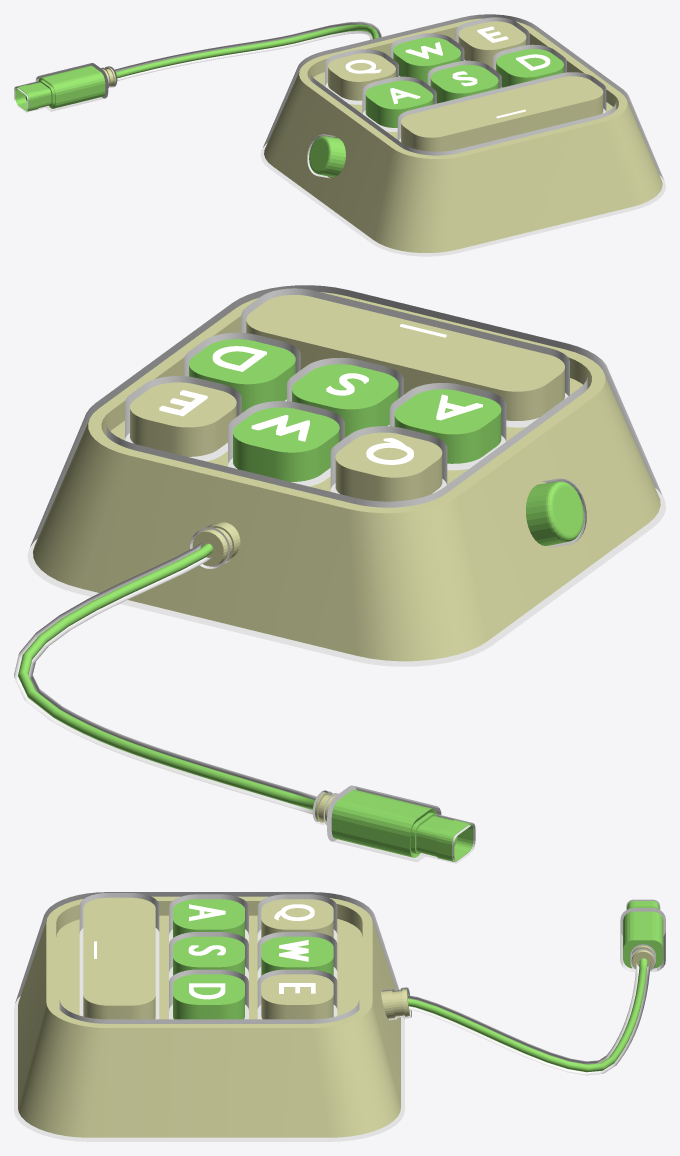
File: mini_cartoon_keyboard.glb
3 views of the same model, one above another, from view 1: azimuth 30°, elevation 25°; view 2: azimuth 150°, elevation 25°; view 3: azimuth 270°, elevation 25° (orthographic). The views are drawn at different scales.
Parts seen in each view (by area): view 1: Cube_0, Cube.012_3, BezierCurve.001_23, Cube.002_9, Cube.005_12, Cube.007_21, Cube.004_11, Cube.003_10, Cube.010_2, Cube.001_8, Cylinder_4, Cube.008_22; view 2: Cube_0, Cube.012_3, BezierCurve.001_23, Cube.004_11, Cube.003_10, Cube.005_12, Cube.002_9, Cube.010_2, Cube.007_21, Cube.001_8, Cylinder_4, Cube.008_22 (+1 smaller); view 3: Cube_0, Cube.012_3, BezierCurve.001_23, Cube.004_11, Cube.001_8, Cube.010_2, Cube.005_12, Cube.002_9, Cube.003_10, Cube.007_21, Cylinder.001_5, Cylinder.002_6 (+2 smaller).
Part boxes in pixels (bbox=[...]): Cube_0: bbox=[260, 14, 665, 256]; Cube.012_3: bbox=[397, 72, 606, 151]; BezierCurve.001_23: bbox=[115, 21, 381, 80]; Cube.002_9: bbox=[362, 76, 436, 132]; Cube.005_12: bbox=[325, 49, 398, 104]; Cube.007_21: bbox=[35, 63, 108, 111]; Cube.004_11: bbox=[455, 17, 529, 68]; Cube.003_10: bbox=[390, 33, 464, 83]; Cube.010_2: bbox=[427, 60, 501, 103]; Cube.001_8: bbox=[493, 44, 566, 87]; Cylinder_4: bbox=[307, 134, 345, 178]; Cube.008_22: bbox=[14, 81, 52, 112]; Cube_0: bbox=[27, 285, 665, 666]; Cube.012_3: bbox=[241, 288, 569, 427]; BezierCurve.001_23: bbox=[14, 541, 316, 814]; Cube.004_11: bbox=[125, 376, 241, 461]; Cube.003_10: bbox=[228, 401, 344, 486]; Cube.005_12: bbox=[330, 426, 447, 501]; Cube.002_9: bbox=[389, 383, 506, 470]; Cube.010_2: bbox=[287, 357, 403, 437]; Cube.007_21: bbox=[327, 785, 441, 861]; Cube.001_8: bbox=[184, 332, 300, 412]; Cylinder_4: bbox=[526, 478, 586, 547]; Cube.008_22: bbox=[415, 813, 475, 863]; Cube_0: bbox=[14, 892, 404, 1141]; Cube.012_3: bbox=[79, 893, 159, 1019]; BezierCurve.001_23: bbox=[407, 958, 650, 1075]; Cube.004_11: bbox=[257, 969, 337, 1019]; Cube.001_8: bbox=[169, 969, 248, 1019]; Cube.010_2: bbox=[169, 932, 248, 981]; Cube.005_12: bbox=[257, 894, 337, 942]; Cube.002_9: bbox=[169, 894, 248, 943]; Cube.003_10: bbox=[257, 932, 337, 980]; Cube.007_21: bbox=[620, 908, 665, 971]; Cylinder.001_5: bbox=[381, 987, 411, 1020]; Cylinder.002_6: bbox=[630, 944, 655, 971].
Bounding box in the file's own units: 7.02 × 1.81 × 8.36.
